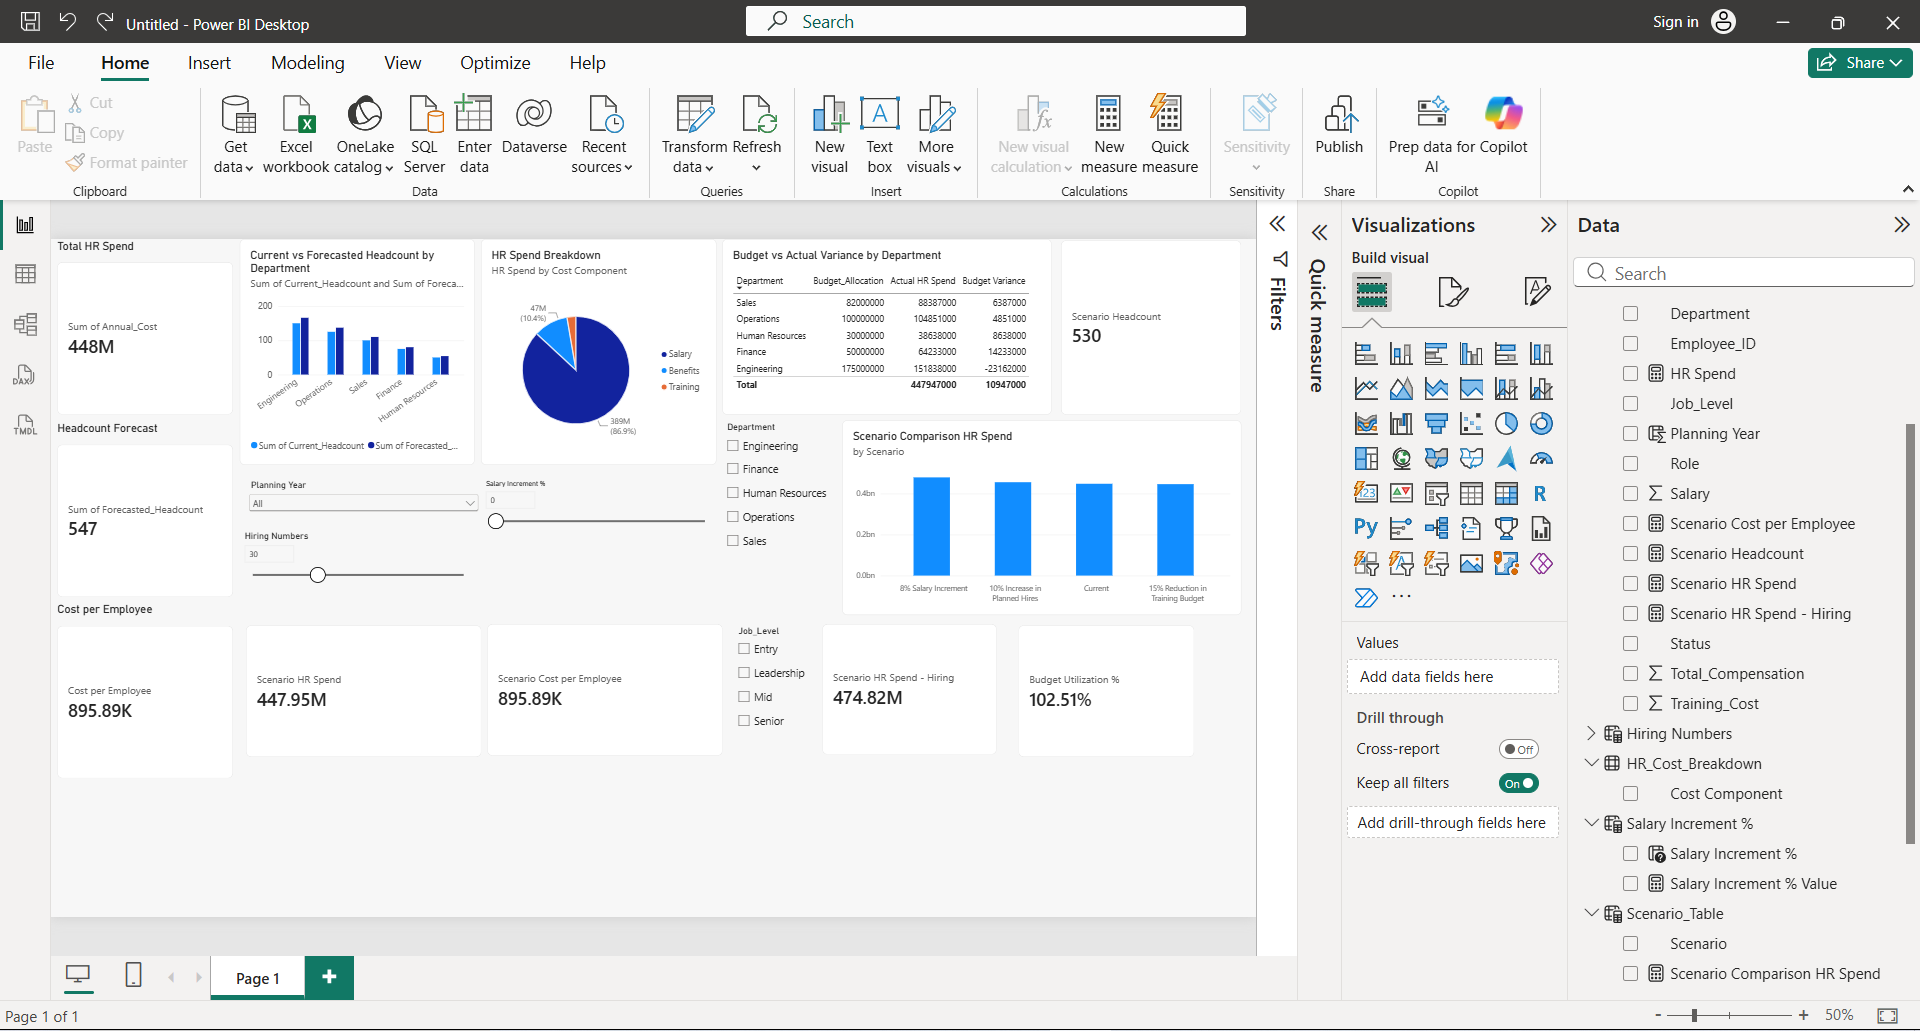

The dashboard page shown, as its layout file describes it:
{"tool":"powerbi","page":{"name":"Page 1","canvas":[1920,1080],"ordinal":0},"visuals":[{"type":"cardVisual","title":"Total HR Spend","fields":{"Data":["Sum(Employee_Data.Annual_Cost)"]},"box":[10,0,280,280],"z":0},{"type":"cardVisual","title":"Headcount Forecast","fields":{"Data":["Sum(Workforce_Plan.Forecasted_Headcount)"]},"box":[10,290,280,280],"z":1000},{"type":"cardVisual","title":"Cost per Employee","fields":{"Data":["Employee_Data.Cost per Employee"]},"box":[10,580,280,280],"z":2000},{"type":"cardVisual","fields":{"Data":["Employee_Data.Budget Utilization %"]},"box":[1541.1,616.1,280,210],"z":3000},{"type":"clusteredColumnChart","title":"Current vs Forecasted Headcount by Department","fields":{"Category":["Workforce_Plan.Department"],"Y":["Sum(Workforce_Plan.Current_Headcount)","Sum(Workforce_Plan.Forecasted_Headcount)"]},"box":[300.5,0,374.6,360.2],"z":4000},{"type":"pieChart","title":"HR Spend Breakdown","fields":{"Category":["HR_Cost_Breakdown.Cost Component"],"Y":["Employee_Data.HR Spend"]},"box":[686,0,375,360],"z":5000},{"type":"tableEx","title":"Budget vs Actual Variance by Department","fields":{"Values":["Workforce_Plan.Department","Workforce_Plan.Budget_Allocation","Employee_Data.Actual HR Spend","Employee_Data.Budget Variance"]},"box":[1070.3,0,524.9,279.9],"z":6000},{"type":"slicer","fields":{"Values":["Employee_Data.Department"]},"box":[1069.9,290.2,190.4,278.8],"z":7000},{"type":"slicer","fields":{"Values":["Employee_Data.Job_Level"]},"box":[1087.5,616.1,312.5,189.3],"z":8000},{"type":"slicer","fields":{"Values":["Employee_Data.Planning Year"]},"box":[310.7,382.1,375,280],"z":9000},{"type":"slicer","fields":{"Values":["Salary Increment %.Salary Increment %"]},"box":[685.7,382.1,375,133.9],"z":10000},{"type":"cardVisual","fields":{"Data":["Employee_Data.Scenario HR Spend"]},"box":[310.7,616.1,375,210],"z":11000},{"type":"cardVisual","fields":{"Data":["Employee_Data.Scenario Cost per Employee"]},"box":[694.6,614.3,375,210],"z":12000},{"type":"slicer","fields":{"Values":["Hiring Numbers.Hiring Numbers"]},"box":[300,464.3,375,208],"z":13000},{"type":"cardVisual","fields":{"Data":["Employee_Data.Scenario Headcount"]},"box":[1608.9,1.8,287.5,278.6],"z":14000},{"type":"cardVisual","fields":{"Data":["Employee_Data.Scenario HR Spend - Hiring"]},"box":[1228.6,614.3,278.6,208.9],"z":15000},{"type":"clusteredColumnChart","fields":{"Category":["Scenario_Table.Scenario"],"Y":["Scenario_Table.Scenario Comparison HR Spend"]},"box":[1260.7,289.3,635.7,310.7],"z":16000}]}

Visuals, with their boxes on the page's 1920x1080 design canvas (x1, y1, x2, y2). These are canvas units, not pixel positions in the 1920x1031 screenshot, which may show the page scaled, cropped or inside an application window:
"Total HR Spend" cardVisual: bbox(10, 0, 290, 280)
"Headcount Forecast" cardVisual: bbox(10, 290, 290, 570)
"Cost per Employee" cardVisual: bbox(10, 580, 290, 860)
cardVisual - Employee_Data.Budget Utilization %: bbox(1541, 616, 1821, 826)
"Current vs Forecasted Headcount by Department" clusteredColumnChart: bbox(300, 0, 675, 360)
"HR Spend Breakdown" pieChart: bbox(686, 0, 1061, 360)
"Budget vs Actual Variance by Department" tableEx: bbox(1070, 0, 1595, 280)
slicer - Employee_Data.Department: bbox(1070, 290, 1260, 569)
slicer - Employee_Data.Job_Level: bbox(1088, 616, 1400, 805)
slicer - Employee_Data.Planning Year: bbox(311, 382, 686, 662)
slicer - Salary Increment %.Salary Increment %: bbox(686, 382, 1061, 516)
cardVisual - Employee_Data.Scenario HR Spend: bbox(311, 616, 686, 826)
cardVisual - Employee_Data.Scenario Cost per Employee: bbox(695, 614, 1070, 824)
slicer - Hiring Numbers.Hiring Numbers: bbox(300, 464, 675, 672)
cardVisual - Employee_Data.Scenario Headcount: bbox(1609, 2, 1896, 280)
cardVisual - Employee_Data.Scenario HR Spend - Hiring: bbox(1229, 614, 1507, 823)
clusteredColumnChart - Scenario_Table.Scenario x Scenario_Table.Scenario Comparison HR Spend: bbox(1261, 289, 1896, 600)
